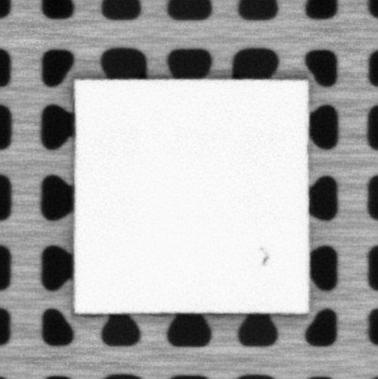DIE_INK: (257, 246, 271, 268)
